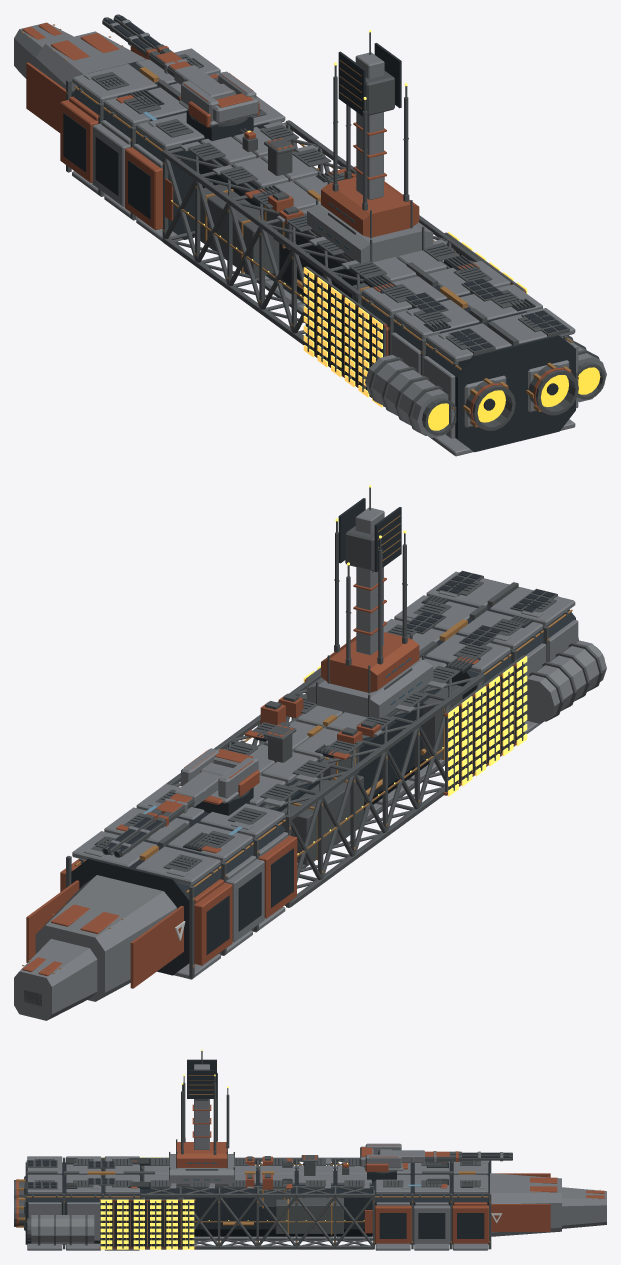
The model's file is mars_starter_escort.glb.
3 views of the same model, one above another, from view 1: azimuth 30°, elevation 25°; view 2: azimuth 150°, elevation 25°; view 3: azimuth 270°, elevation 25° (orthographic). The views are drawn at different scales.
Parts seen in each view (by area): view 1: FleetHull, mesh_recoil_gun_1, mesh_turret_gun_1; view 2: FleetHull, mesh_recoil_gun_1, mesh_turret_gun_1; view 3: FleetHull, mesh_recoil_gun_1, mesh_turret_gun_1.
Boxes of the visible parts, x1,y1,x2,y2 form: FleetHull: (14, 22, 606, 456); mesh_recoil_gun_1: (102, 14, 236, 99); mesh_turret_gun_1: (179, 71, 259, 127); FleetHull: (14, 485, 606, 1020); mesh_recoil_gun_1: (102, 763, 232, 857); mesh_turret_gun_1: (181, 748, 259, 804); FleetHull: (14, 1049, 606, 1250); mesh_recoil_gun_1: (378, 1149, 512, 1162); mesh_turret_gun_1: (360, 1143, 407, 1171).
Size of the model in its own units: 50.03 by 77.44 by 221.
